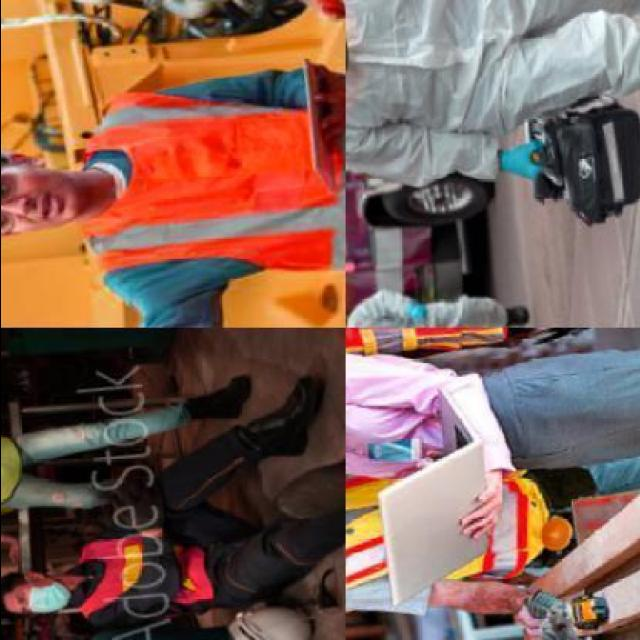jacket: (74, 80, 328, 304), (66, 529, 220, 628)
